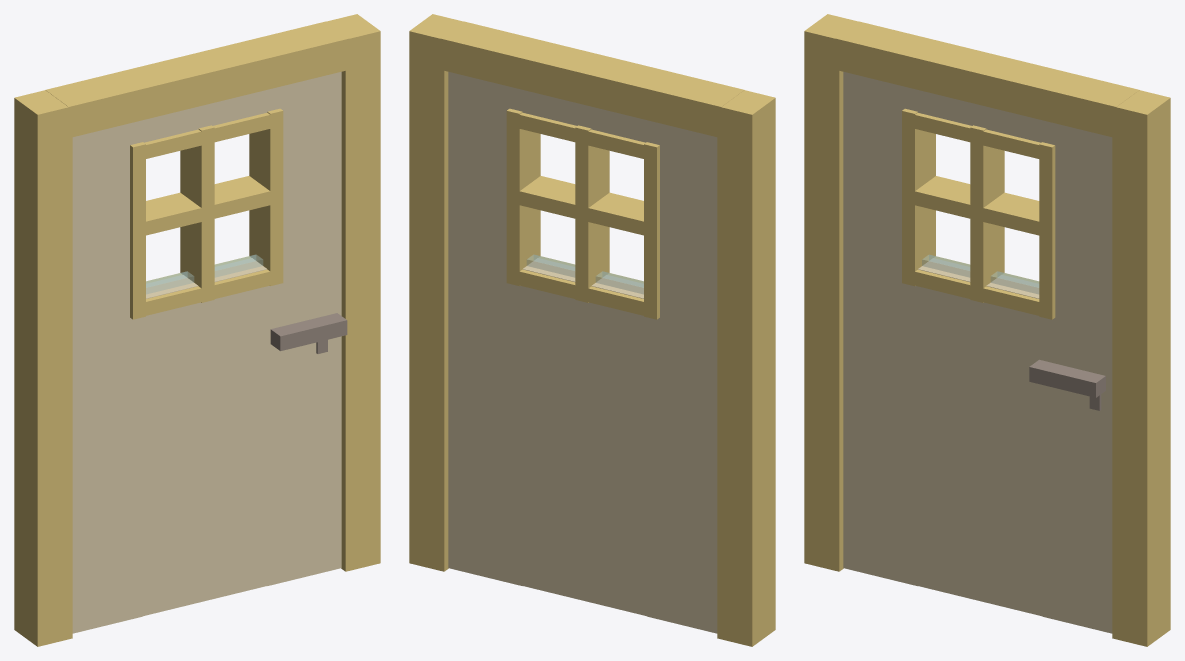
File: kapı 1.2.3.fbx
The picture shows the model from 3 angles, left to right: view 1: azimuth 30°, elevation 25°; view 2: azimuth 150°, elevation 25°; view 3: azimuth 330°, elevation 25°; orthographic projection.
Parts seen in each view (by area): view 1: pCube33; view 2: pCube33; view 3: pCube33.
Boxes of the visible parts, left/top/right/bottom form: pCube33: left=14, top=14, right=380, bottom=646; pCube33: left=409, top=14, right=775, bottom=646; pCube33: left=804, top=14, right=1170, bottom=646.
Bounding box in the file's own units: 909 × 1348 × 148.
